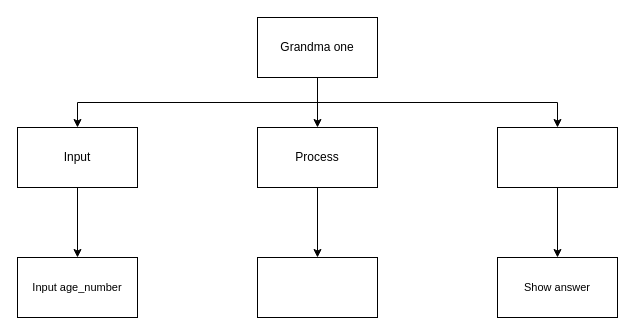
This 635x335 diagram has some shape labels left out. Here are the shapes that lost their labels. From the top down, the centre of each, then its label:
the point at 557,157: Output
the point at 317,287: if age_number >= 25 and age_number <= 40 then print("Approved")
